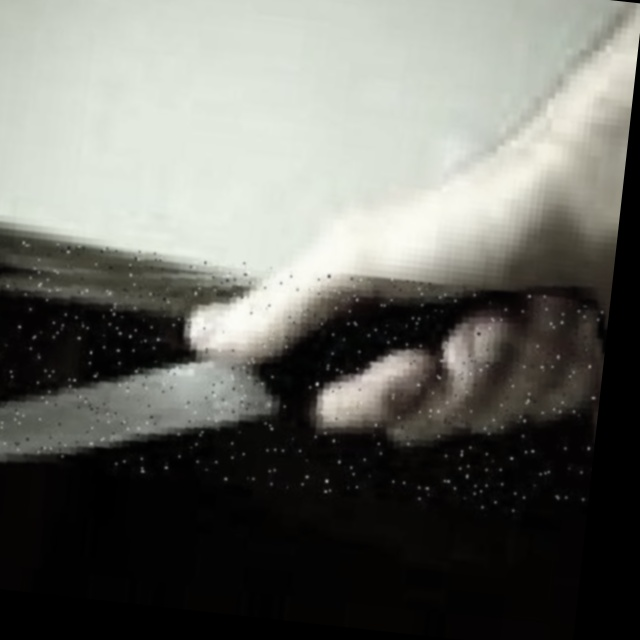Sharp-Object: (0, 232, 607, 521)
